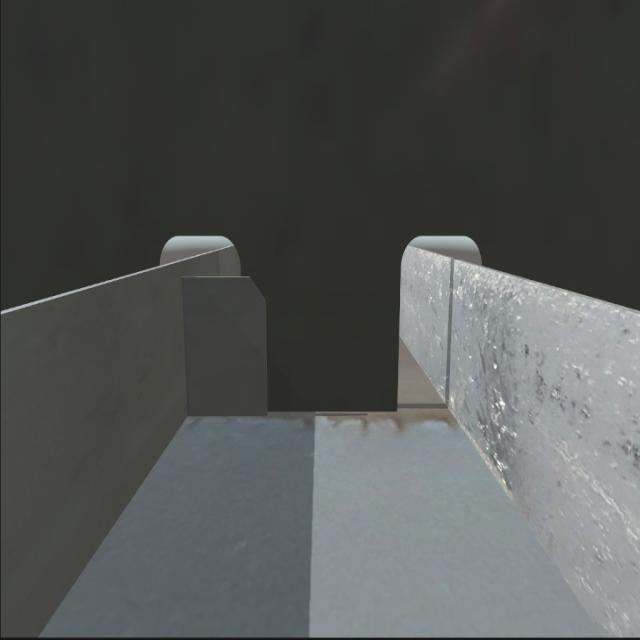fillet_yong_jeop_jang: (184, 399, 400, 421)
longi_yong_jeop_jang: (176, 276, 197, 425)
plate_CP03: (180, 278, 269, 419)
